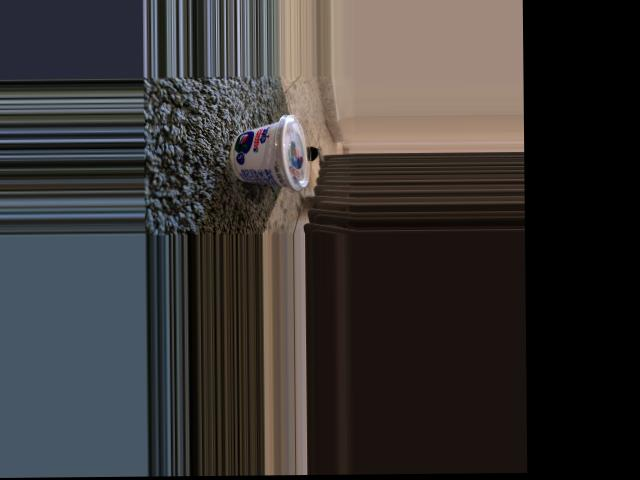cotage: (227, 119, 311, 187)
